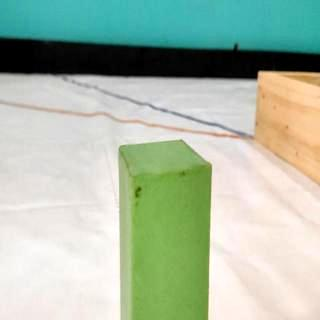greenbox: (116, 136, 215, 320)
